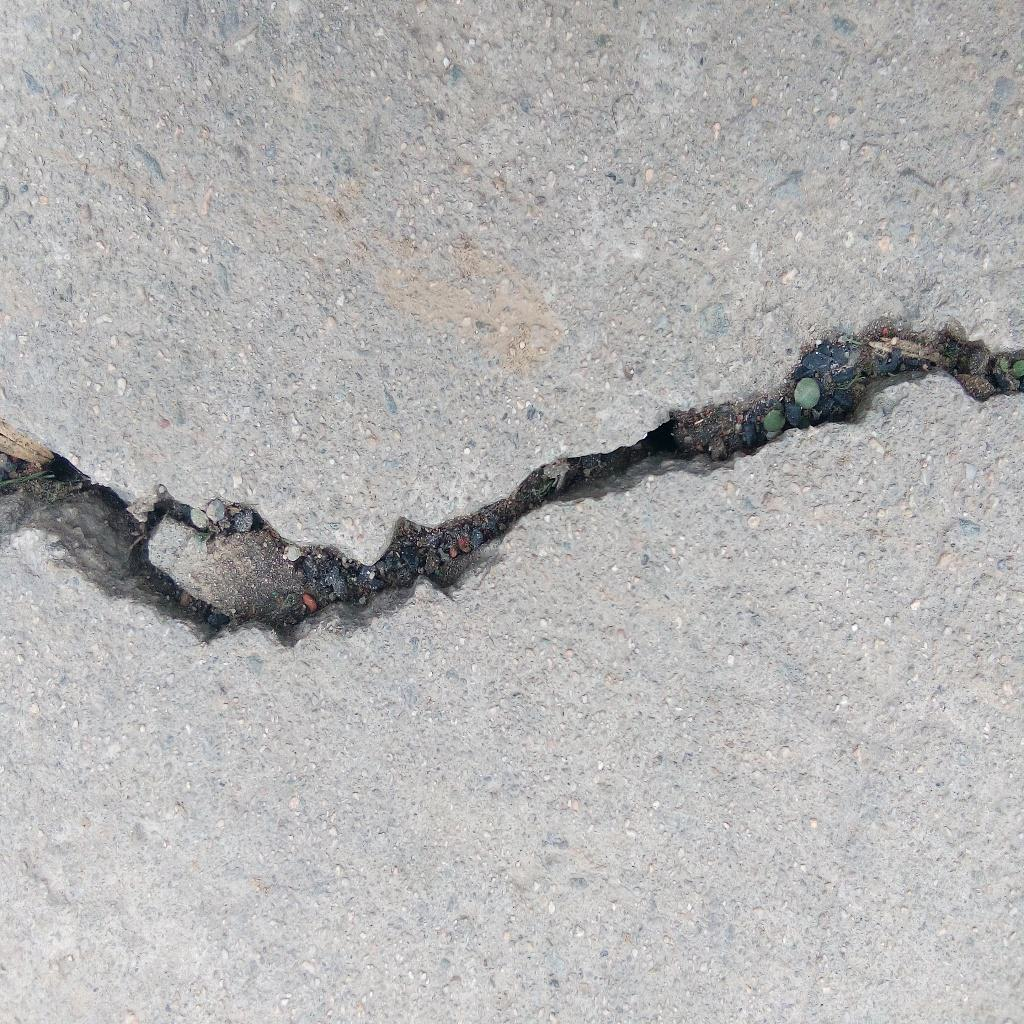Crack: (1, 314, 1024, 649)
